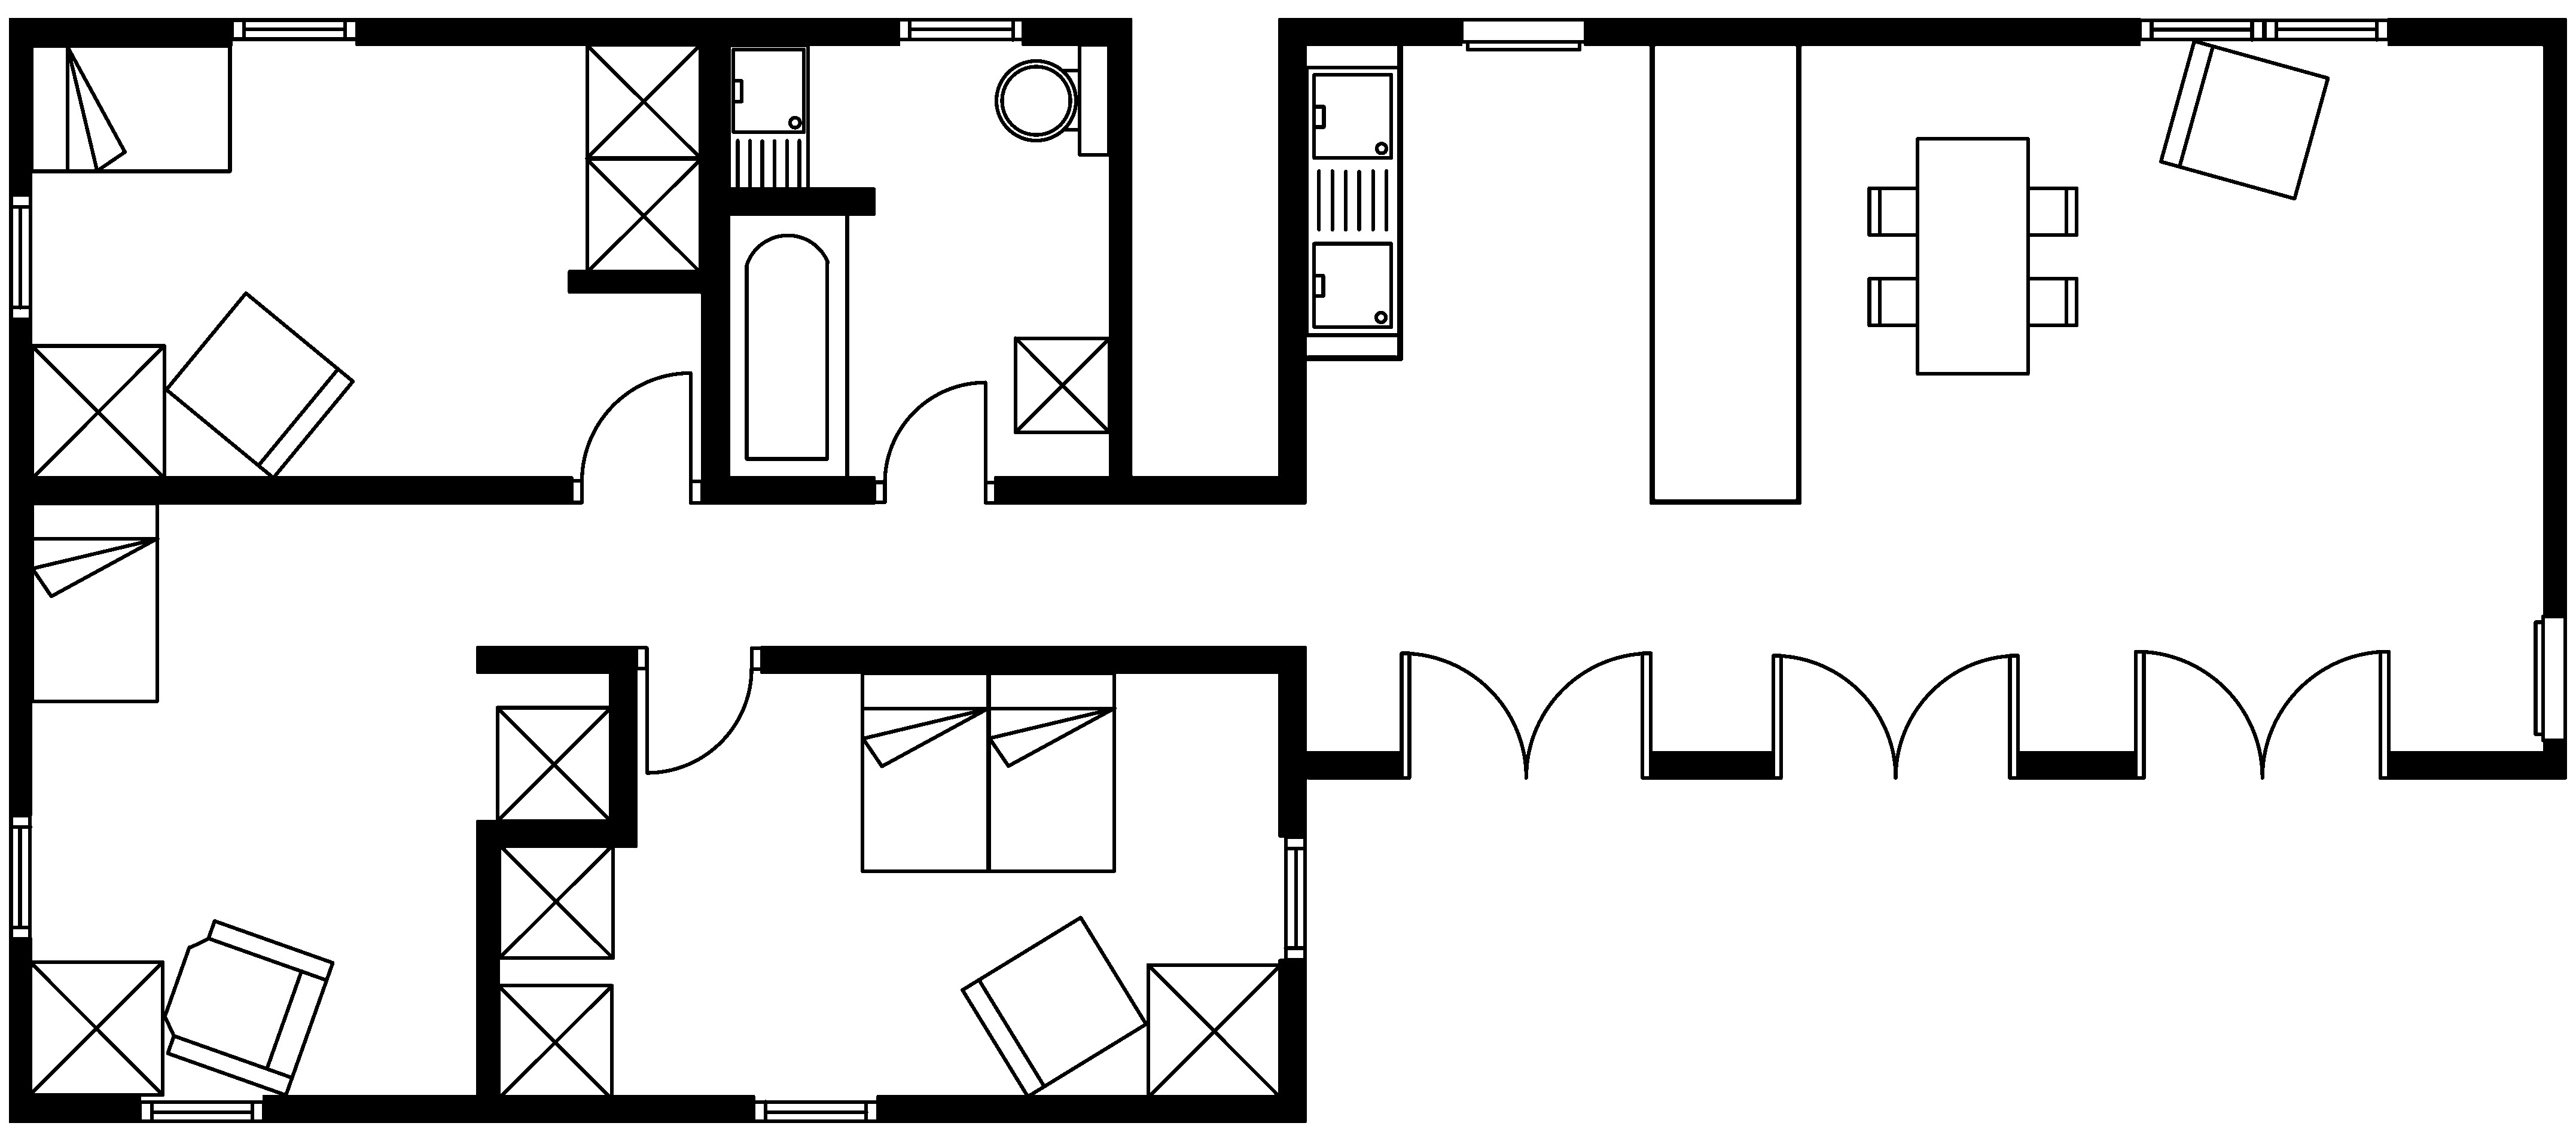armchair: (161, 918, 335, 1097)
bed: (28, 501, 159, 703), (30, 43, 232, 174), (859, 670, 991, 872), (986, 670, 1117, 872)
coffee_table: (26, 959, 164, 1097), (1145, 963, 1283, 1099), (30, 343, 166, 480), (494, 982, 614, 1101), (583, 41, 702, 161), (494, 705, 613, 823), (496, 841, 614, 959), (585, 156, 702, 274), (1012, 335, 1112, 434)
dining_table: (1866, 136, 2078, 376)
large_sink: (994, 41, 1111, 156)
sink: (726, 43, 810, 209)
small_sofa: (163, 291, 355, 480), (959, 915, 1148, 1099), (2159, 38, 2330, 200)
tub: (726, 210, 849, 483)
twin_sink: (1304, 64, 1401, 337)
